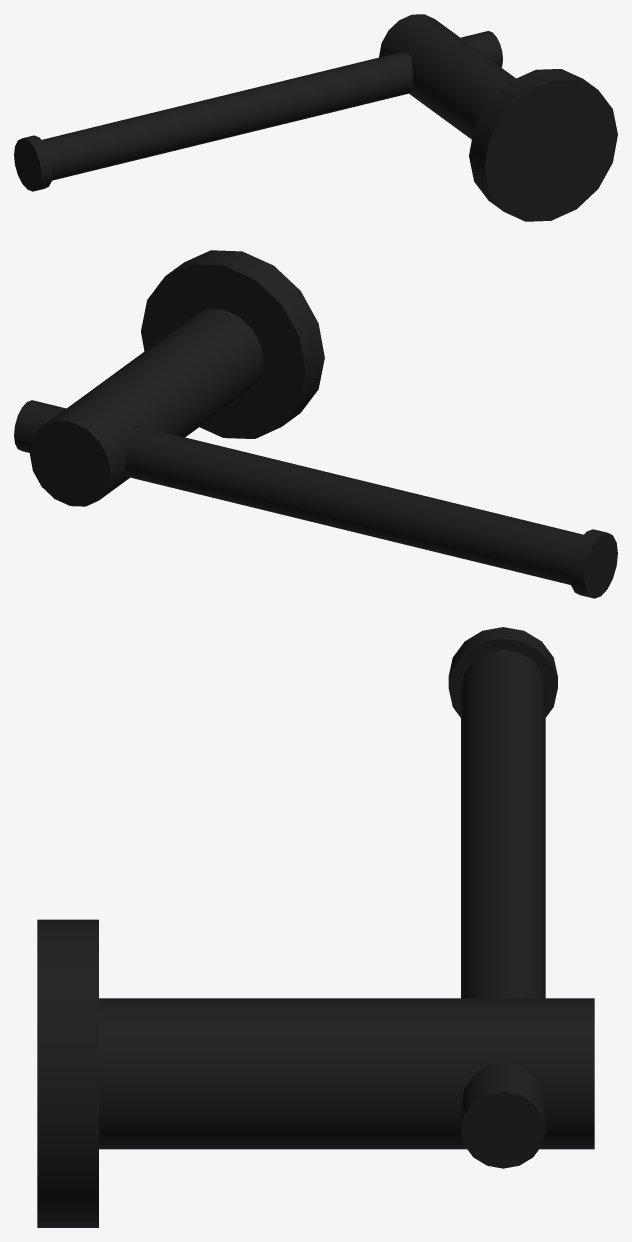
File: TissueHanger04.fbx
3 views of the same model, one above another, from view 1: azimuth 30°, elevation 25°; view 2: azimuth 150°, elevation 25°; view 3: azimuth 270°, elevation 25° (orthographic). The views are drawn at different scales.
Parts seen in each view (by area): view 1: TissueHanger04; view 2: TissueHanger04; view 3: TissueHanger04.
Part boxes in pixels (left/top/right/bottom): TissueHanger04: left=14, top=14, right=617, bottom=221; TissueHanger04: left=14, top=250, right=617, bottom=598; TissueHanger04: left=37, top=627, right=594, bottom=1227.
Bounding box in the file's own units: 28.37 × 8 × 14.46.
